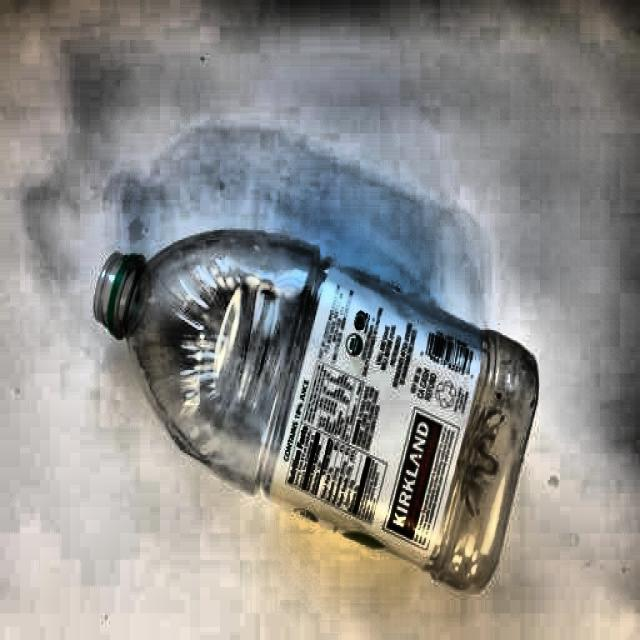plastic: (92, 230, 539, 602)
